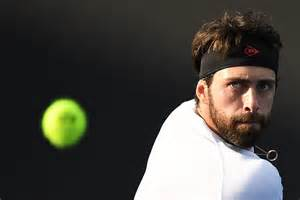tennis_ball: (39, 97, 90, 151)
